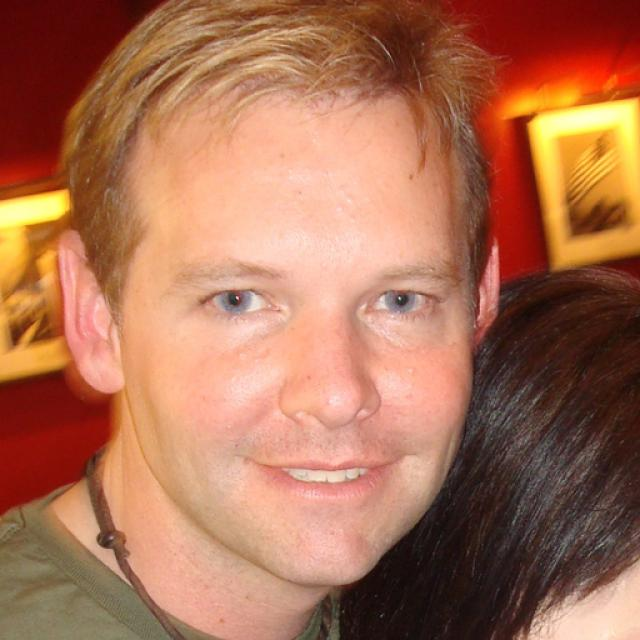Acne: (321, 182, 363, 228)
